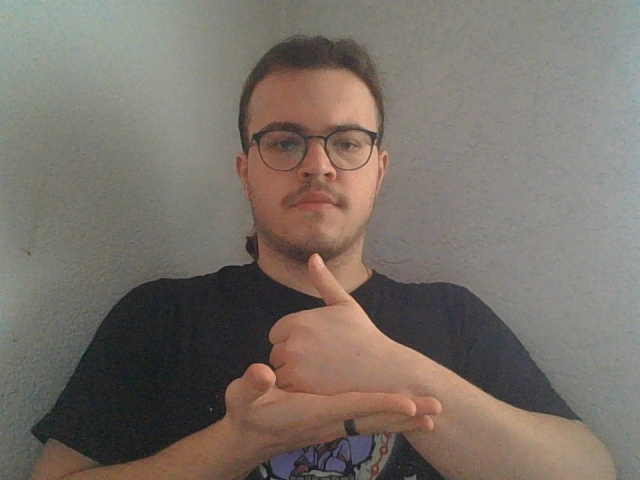Help: (221, 250, 445, 447)
